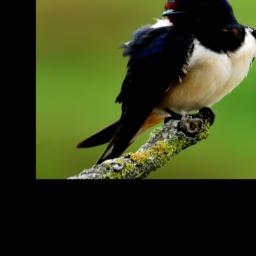Swallow: (75, 0, 256, 168)
